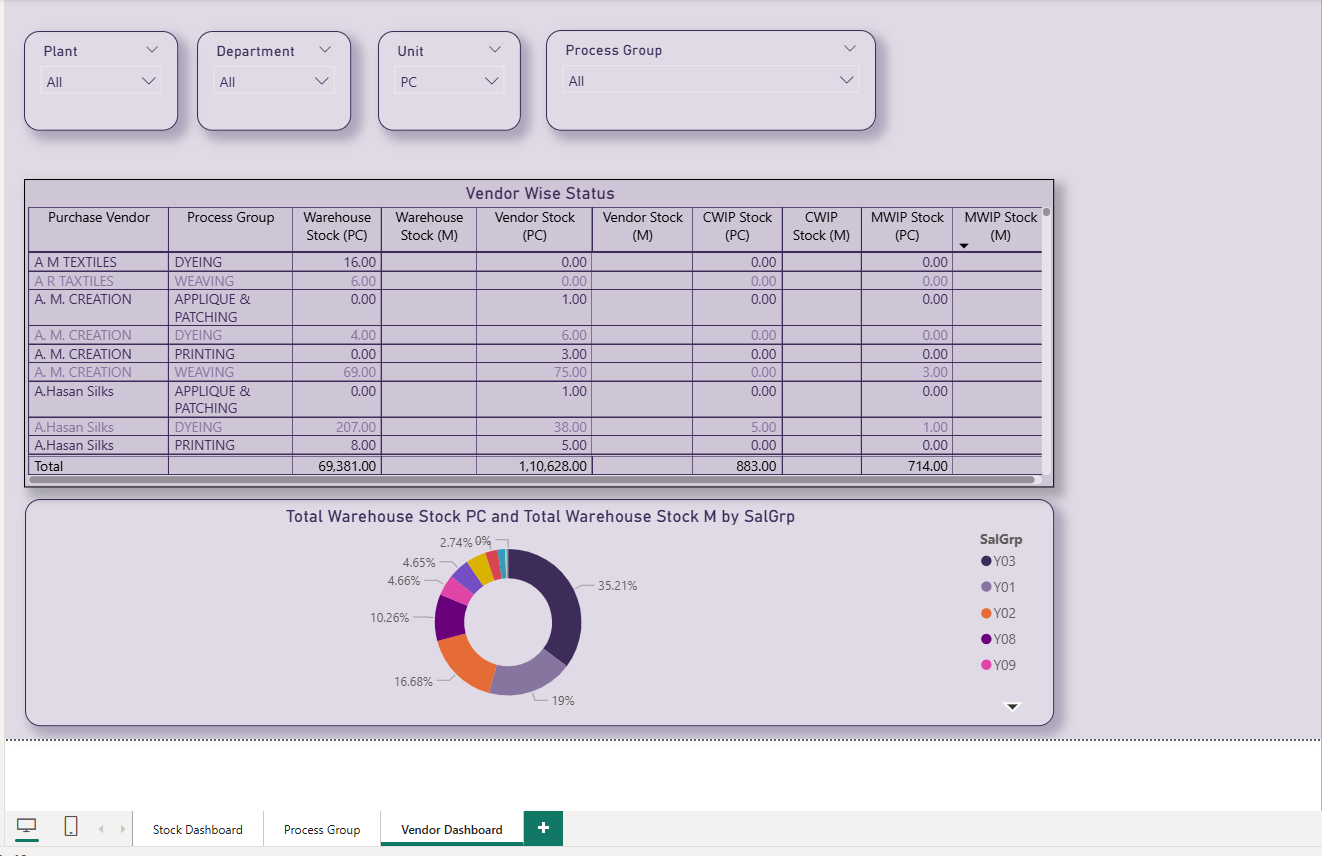

This screenshot's page, from the dashboard's own definition file:
{"tool":"powerbi","page":{"name":"Vendor Dashboard","canvas":[1280,720],"ordinal":2},"visuals":[{"type":"slicer","fields":{"Values":["Department.Sales Group Code"]},"box":[186.7,31.1,149.8,97.3],"z":0},{"type":"slicer","fields":{"Values":["Plant.Plant"]},"box":[18.5,31.1,149.8,97.3],"z":1000},{"type":"slicer","fields":{"Values":["Unit Of Measurment.UOM"]},"box":[362.8,31.1,139.1,97.3],"z":2000},{"type":"slicer","fields":{"Values":["yngs_123 vendorpurchasedesign.PurchaseDesign"]},"box":[526.2,30.2,321,98.2],"z":3000},{"type":"tableEx","title":"Vendor Wise Status","fields":{"Values":["yngs_123 materialdata.PurchaseVendorName","yngs_123 materialdata.ProcessGroup","yngs_123 materialdata.Total Warehouse Stock PC","Calendar.Total Warehouse Stock M","yngs_123 materialdata.Total Vendor Stock PC","yngs_123 materialdata.Total Vendor Stock M","yngs_123 materialdata.Total CWIP Stock PC","yngs_123 materialdata.Total CWIP Stock M","yngs_123 materialdata.Total MWIP Stock PC","yngs_123 materialdata.Total MWIP Stock M"]},"box":[18.8,174.6,1002.1,300],"z":4000},{"type":"donutChart","fields":{"Category":["yngs_123 materialdata.SalGrp"],"Y":["yngs_123 materialdata.Total Warehouse Stock PC","Calendar.Total Warehouse Stock M"]},"box":[19.5,486.3,1000.9,220.8],"z":5000}]}

Visuals, with their boxes on the page's 1280x720 design canvas (x1, y1, x2, y2). These are canvas units, not pixel positions in the 1322x856 screenshot, which may show the page scaled, cropped or inside an application window:
slicer - Department.Sales Group Code: BBox(187, 31, 336, 128)
slicer - Plant.Plant: BBox(18, 31, 168, 128)
slicer - Unit Of Measurment.UOM: BBox(363, 31, 502, 128)
slicer - yngs_123 vendorpurchasedesign.PurchaseDesign: BBox(526, 30, 847, 128)
"Vendor Wise Status" tableEx: BBox(19, 175, 1021, 475)
donutChart - yngs_123 materialdata.SalGrp x yngs_123 materialdata.Total Warehouse Stock PC: BBox(20, 486, 1020, 707)
